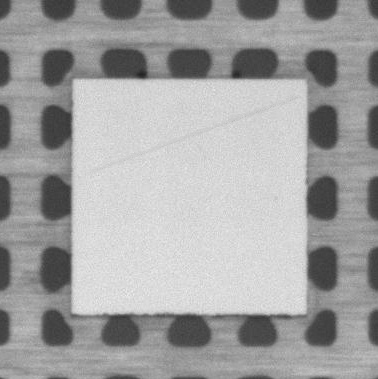DIE_CRACK: (90, 97, 296, 172)
